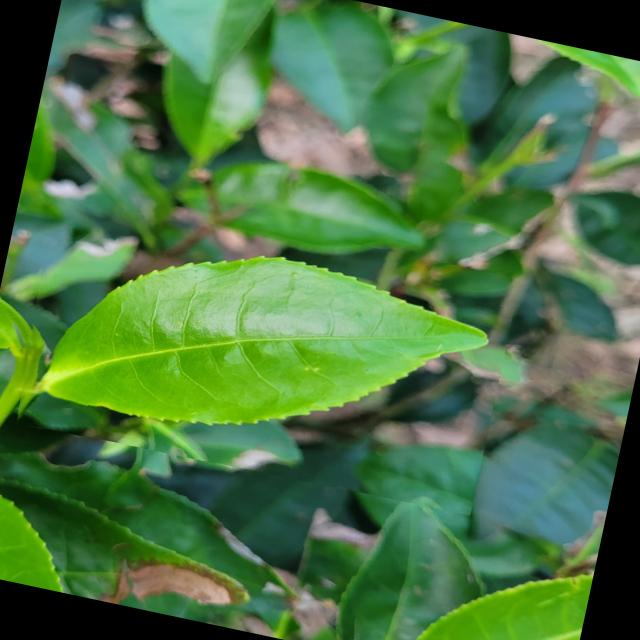Catagory A(1-2 days): (5, 180, 520, 518)
